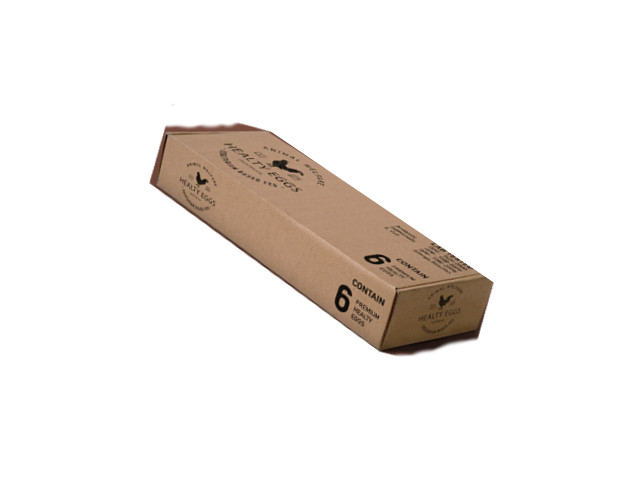cardboard: (153, 130, 495, 351)
